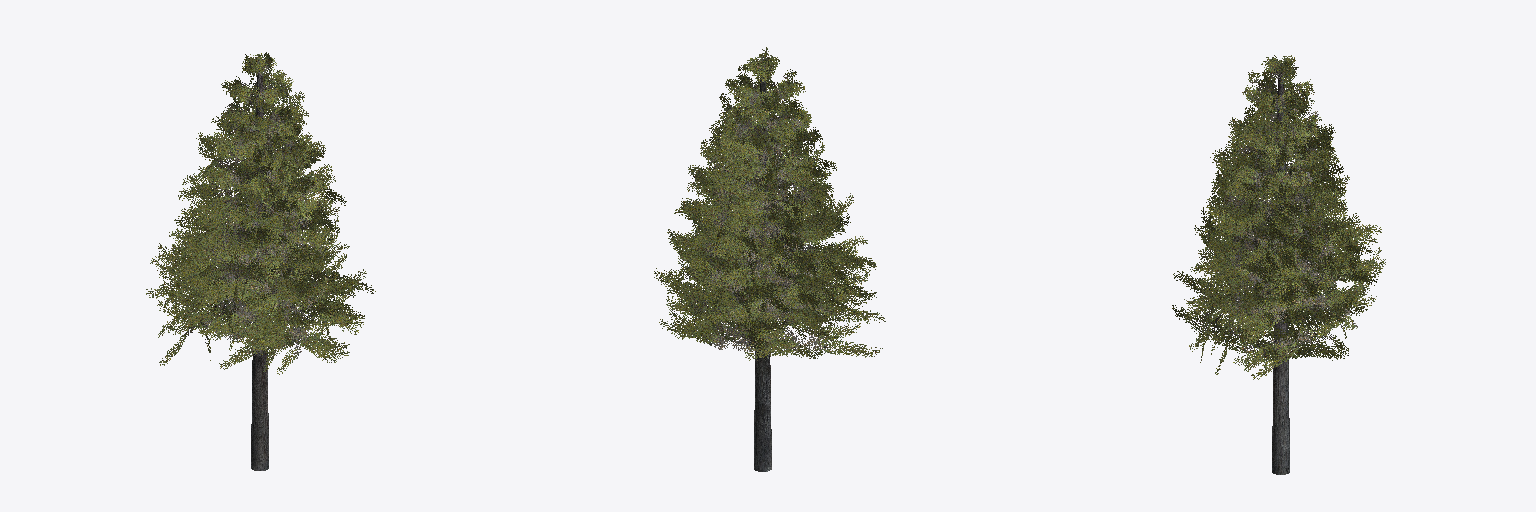
3 views of the same model, side by side, from view 1: azimuth 30°, elevation 25°; view 2: azimuth 150°, elevation 25°; view 3: azimuth 270°, elevation 25° (orthographic).
Parts seen in each view (by area): view 1: Foliage, Bark; view 2: Foliage, Bark; view 3: Foliage, Bark.
Part boxes in pixels (bbox=[...]): Foliage: bbox=[146, 52, 375, 374]; Bark: bbox=[251, 72, 268, 470]; Foliage: bbox=[654, 47, 885, 360]; Bark: bbox=[754, 77, 771, 471]; Foliage: bbox=[1172, 55, 1385, 379]; Bark: bbox=[1272, 76, 1289, 474].
Size of the model in its own units: 8.1 by 15 by 6.95.
2 materials, 2 textured.